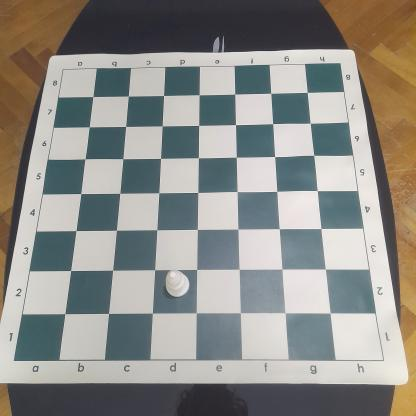white-bishop: (164, 269, 193, 298)
